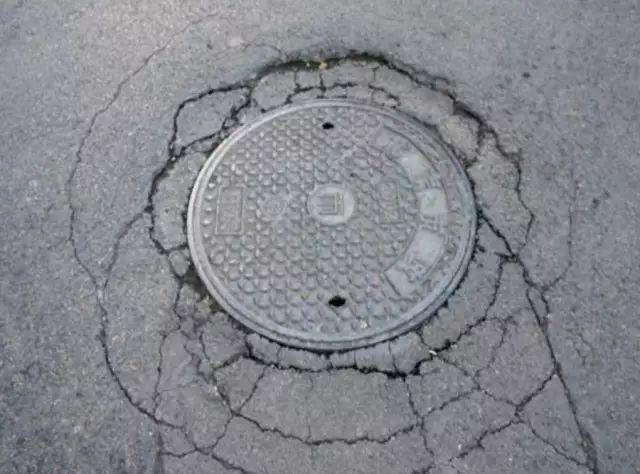wellcover: (175, 93, 517, 367)
